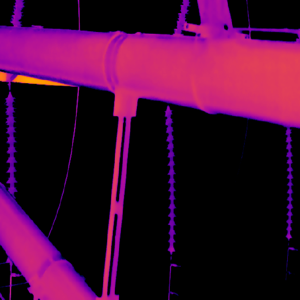insulator: (162, 106, 178, 252), (2, 92, 18, 203), (284, 126, 294, 241), (169, 0, 191, 34), (8, 0, 25, 25)
